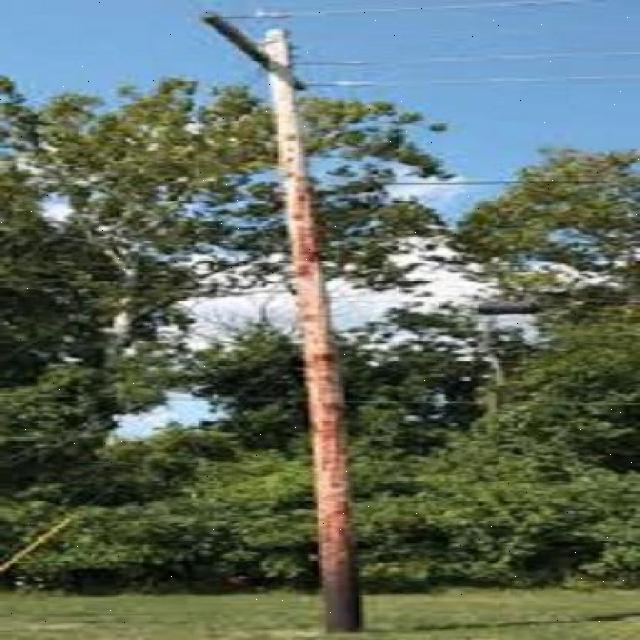light_pole: (210, 17, 373, 625)
